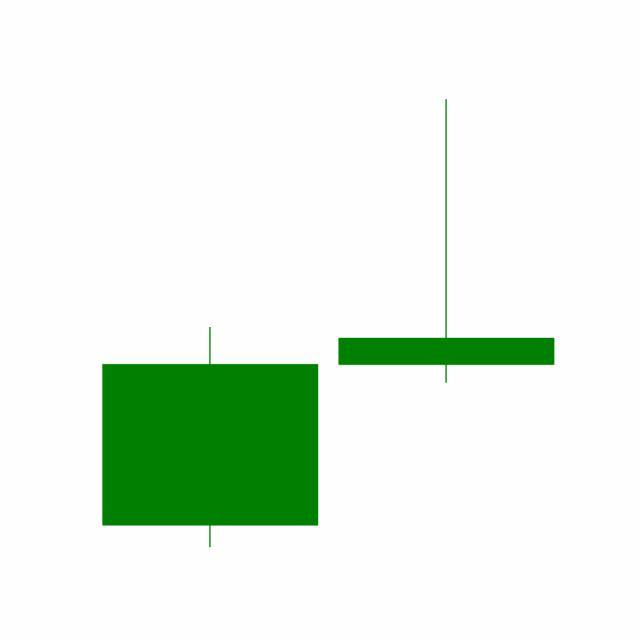Gravestone Doji: (328, 97, 566, 388)
